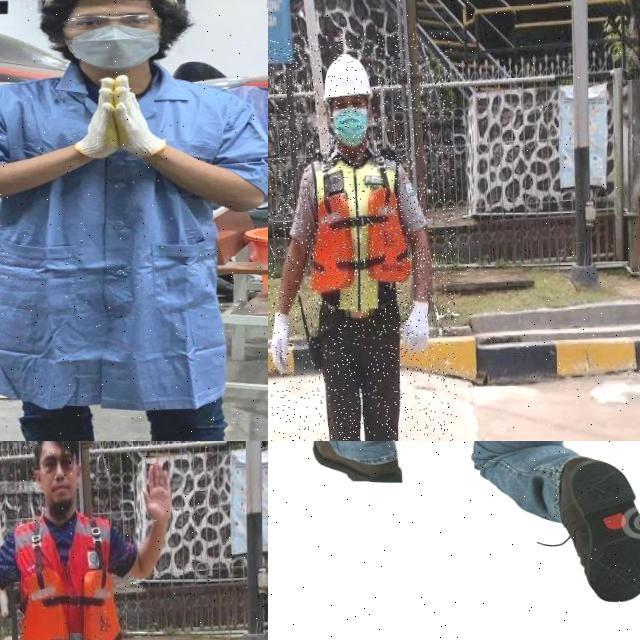boots: (552, 451, 640, 604), (310, 441, 404, 487)
helmet: (317, 52, 377, 100)
vest: (308, 151, 411, 314), (9, 513, 128, 640)
